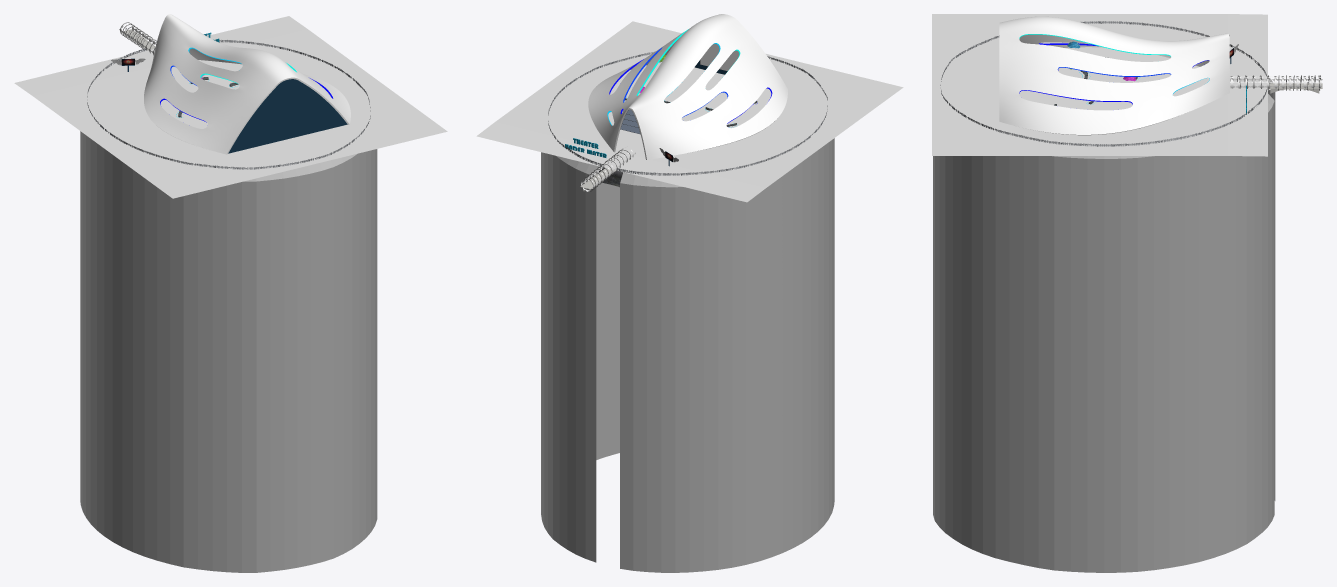
Rendered from Theater_03.glb.
3 renders of one model, left to right at view 1: azimuth 30°, elevation 25°; view 2: azimuth 150°, elevation 25°; view 3: azimuth 270°, elevation 25°, orthographic. The views are drawn at different scales.
Parts seen in each view (by area): view 1: Object042, Plane, building_structure, screen_back_wall, Border01; view 2: Object042, Plane, building_structure, Border01; view 3: Object042, Plane, building_structure, Border01, Torus.024.
Boxes of the visible parts, x1,y1,x2,y2 form: Object042: (80,131,377,572); Plane: (14,16,447,198); building_structure: (144,14,350,154); screen_back_wall: (228,79,347,153); Border01: (87,40,370,169); Object042: (541,138,834,572); Plane: (476,21,903,202); building_structure: (588,14,787,159); Border01: (548,51,827,175); Object042: (933,78,1275,572); Plane: (932,14,1267,156); building_structure: (999,16,1229,135); Border01: (940,21,1267,146); Torus.024: (1230,75,1322,90).
Size of the model in its own units: 144 by 233 by 167.
29 materials, 13 textured.
